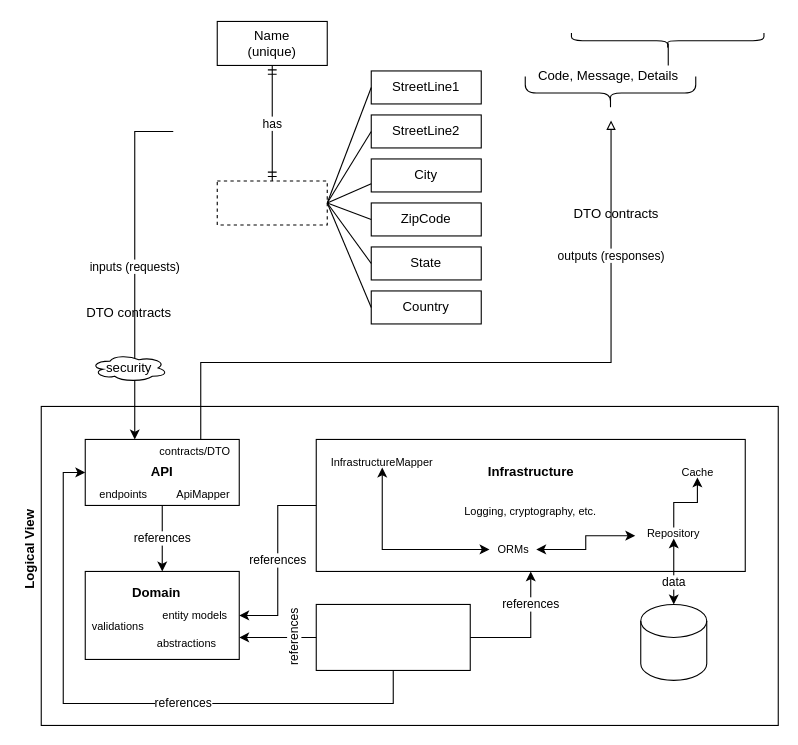
Image size: 798x745. Some labels were removed from this diagram. The centre of each missing label's shape, as x and y in pixels:
"Address" belongs at [271,202].
"EF Core In-Memory DB" belongs at [673,641].
"List< DTO > or List< Error >" belongs at [667,40].
"xUnit Test" belongs at [392,636].
